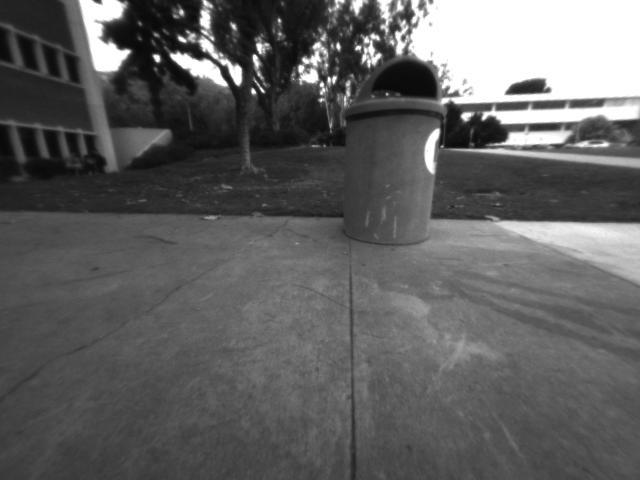trashcan: (342, 54, 439, 246)
